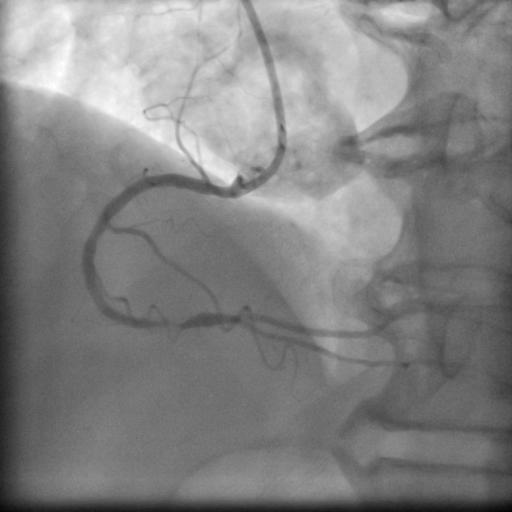Stenosis: (150, 315, 189, 336)
